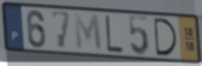5: (128, 14, 150, 58)
6: (25, 8, 47, 49)
7: (50, 9, 72, 51)
D: (152, 16, 180, 58)
L: (104, 13, 125, 55)
M: (72, 12, 104, 53)
